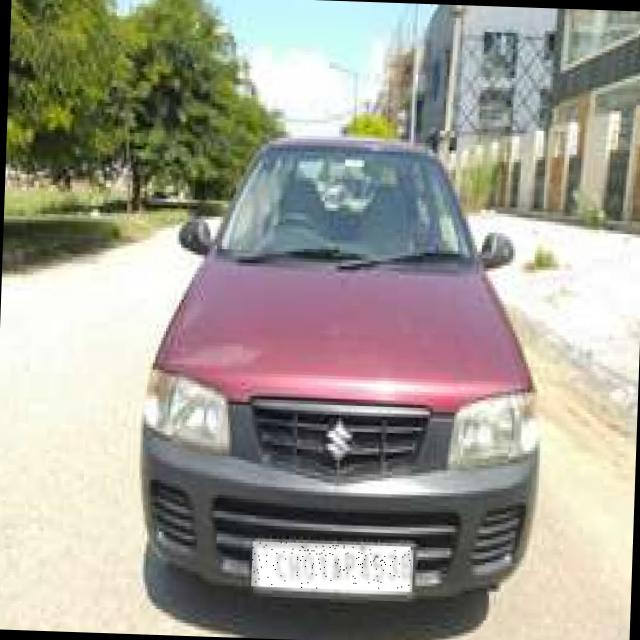Plate: (252, 542, 412, 593)
